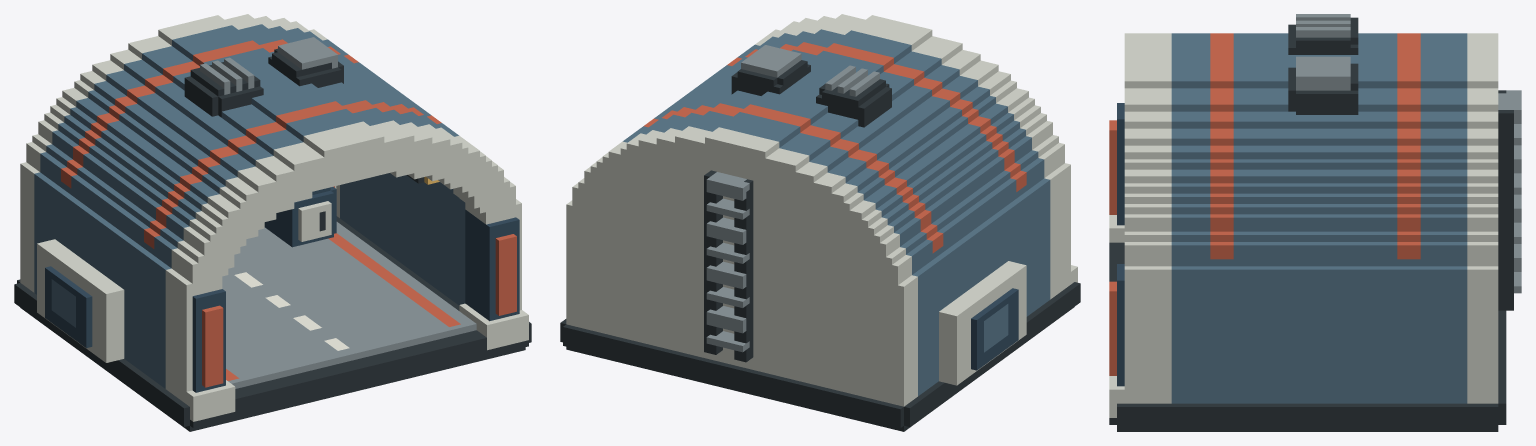
The model's file is hangar.glb.
3 views of the same model, side by side, from view 1: azimuth 30°, elevation 25°; view 2: azimuth 150°, elevation 25°; view 3: azimuth 270°, elevation 25° (orthographic). The views are drawn at different scales.
Visible parts, largest first — view 1: hangar; view 2: hangar; view 3: hangar.
Boxes of the visible parts, x1,y1,x2,y2 form: hangar: (14,14,531,431); hangar: (560,14,1080,431); hangar: (1109,14,1521,431).
Size of the model in its own units: 7.93 by 5.46 by 6.89.
